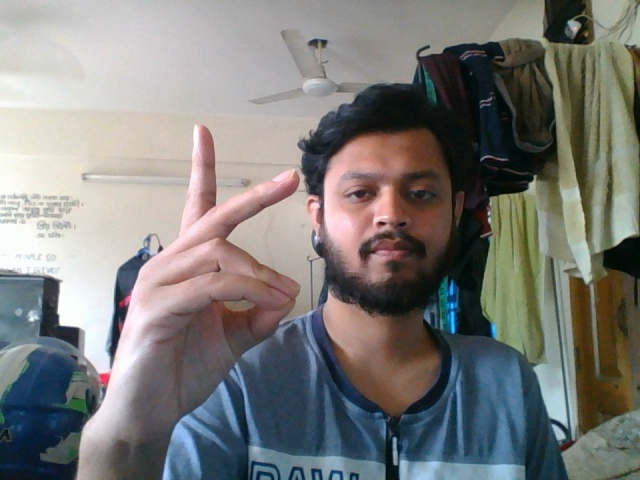na: (108, 119, 307, 470)
